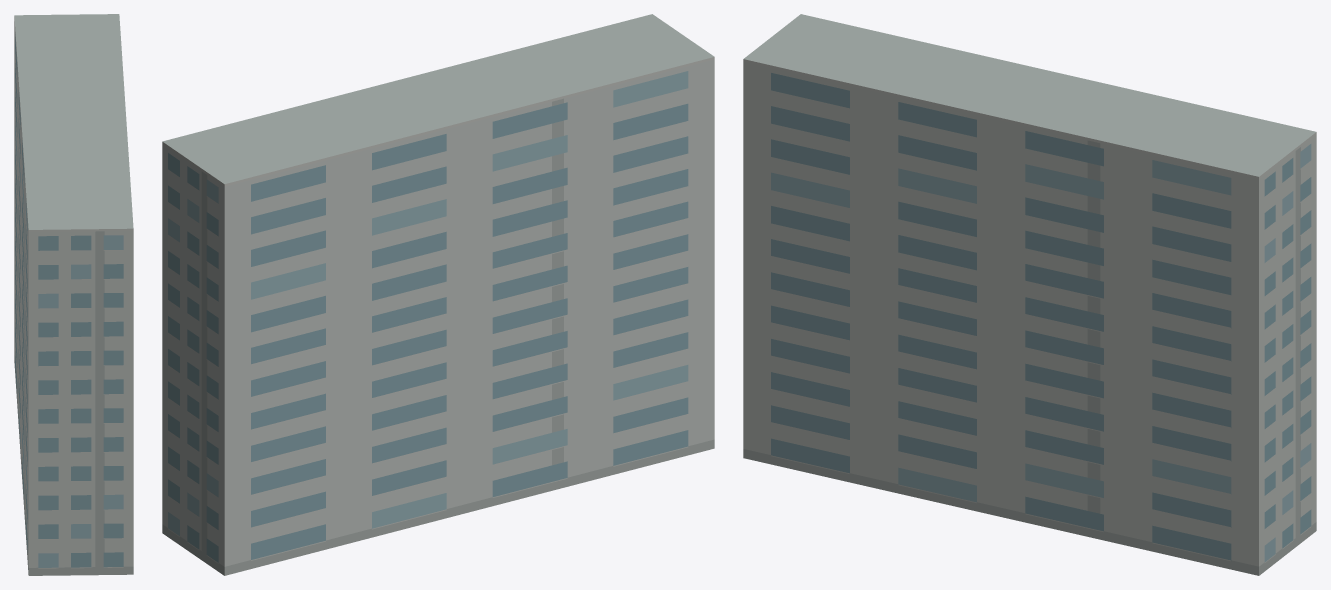
The model's file is residential-8f526fc1-baf3-40f8-bd35-61fe69371dbc.glb.
3 renders of one model, left to right at view 1: azimuth 30°, elevation 25°; view 2: azimuth 150°, elevation 25°; view 3: azimuth 270°, elevation 25°, orthographic. The views are drawn at different scales.
Parts seen in each view (by area): view 1: residential-8f526fc1-baf3-40f8-bd35-61fe69371dbc.tmp; view 2: residential-8f526fc1-baf3-40f8-bd35-61fe69371dbc.tmp; view 3: residential-8f526fc1-baf3-40f8-bd35-61fe69371dbc.tmp.
Part boxes in pixels (x1=…): residential-8f526fc1-baf3-40f8-bd35-61fe69371dbc.tmp: x1=14, y1=14, x2=133, y2=575; residential-8f526fc1-baf3-40f8-bd35-61fe69371dbc.tmp: x1=162, y1=14, x2=714, y2=575; residential-8f526fc1-baf3-40f8-bd35-61fe69371dbc.tmp: x1=743, y1=14, x2=1316, y2=575.
Size of the model in its own units: 32.05 by 36.6 by 47.67.
